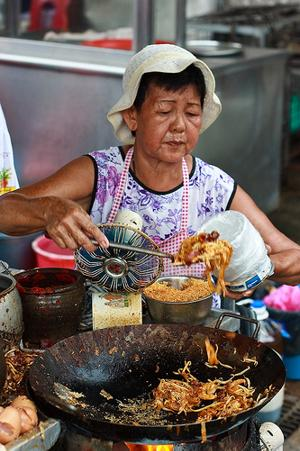person: (2, 44, 300, 304)
